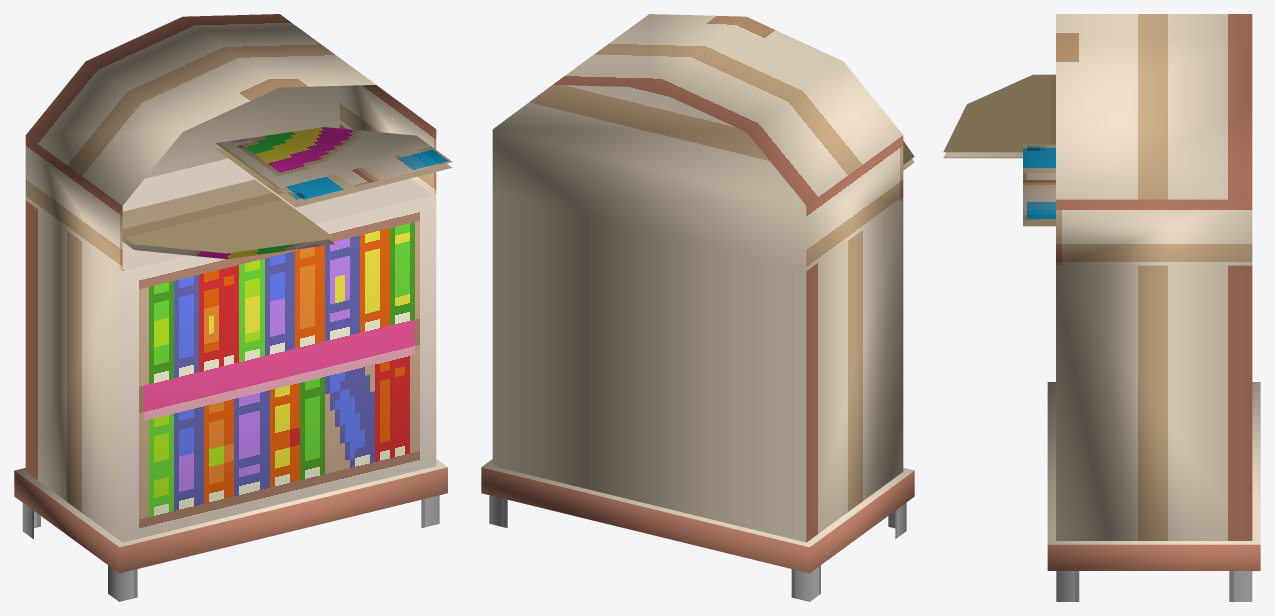
3 views of the same model, side by side, from view 1: azimuth 30°, elevation 25°; view 2: azimuth 150°, elevation 25°; view 3: azimuth 270°, elevation 25° (orthographic).
Parts seen in each view (by area): view 1: 3722kg_sk_cl1; view 2: 3722kg_sk_cl1; view 3: 3722kg_sk_cl1.
Part boxes in pixels (bbox=[...]): 3722kg_sk_cl1: bbox=[14, 14, 452, 601]; 3722kg_sk_cl1: bbox=[481, 14, 914, 601]; 3722kg_sk_cl1: bbox=[943, 14, 1260, 601].
Bounding box in the file's own units: 1.44 × 2 × 1.19.
Materials: 3 (3 with a texture image).
